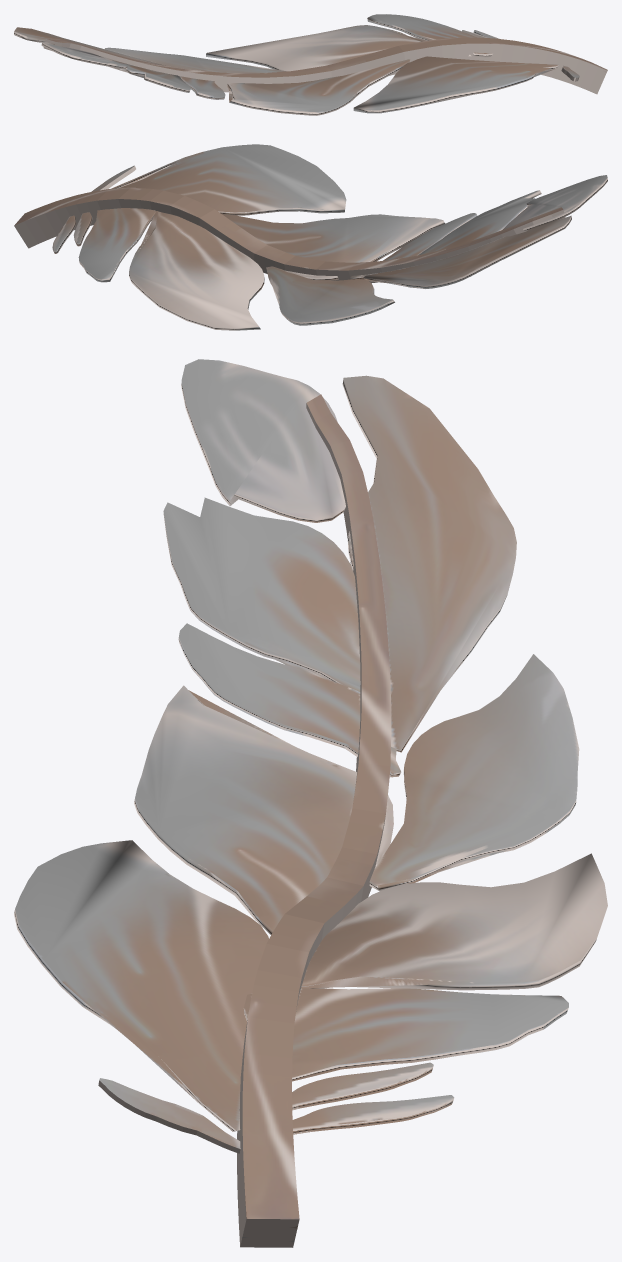
Rendered from feather3.fbx.
The picture shows the model from 3 angles, top to bottom: view 1: azimuth 30°, elevation 25°; view 2: azimuth 150°, elevation 25°; view 3: azimuth 270°, elevation 25°; orthographic projection. The views are drawn at different scales.
Parts seen in each view (by area): view 1: Cylinder; view 2: Cylinder; view 3: Cylinder.
Boxes of the visible parts, x1,y1,x2,y2 form: Cylinder: (14, 14, 607, 115); Cylinder: (14, 144, 607, 330); Cylinder: (14, 359, 607, 1247).
Size of the model in its own units: 1589 by 498 by 735.
